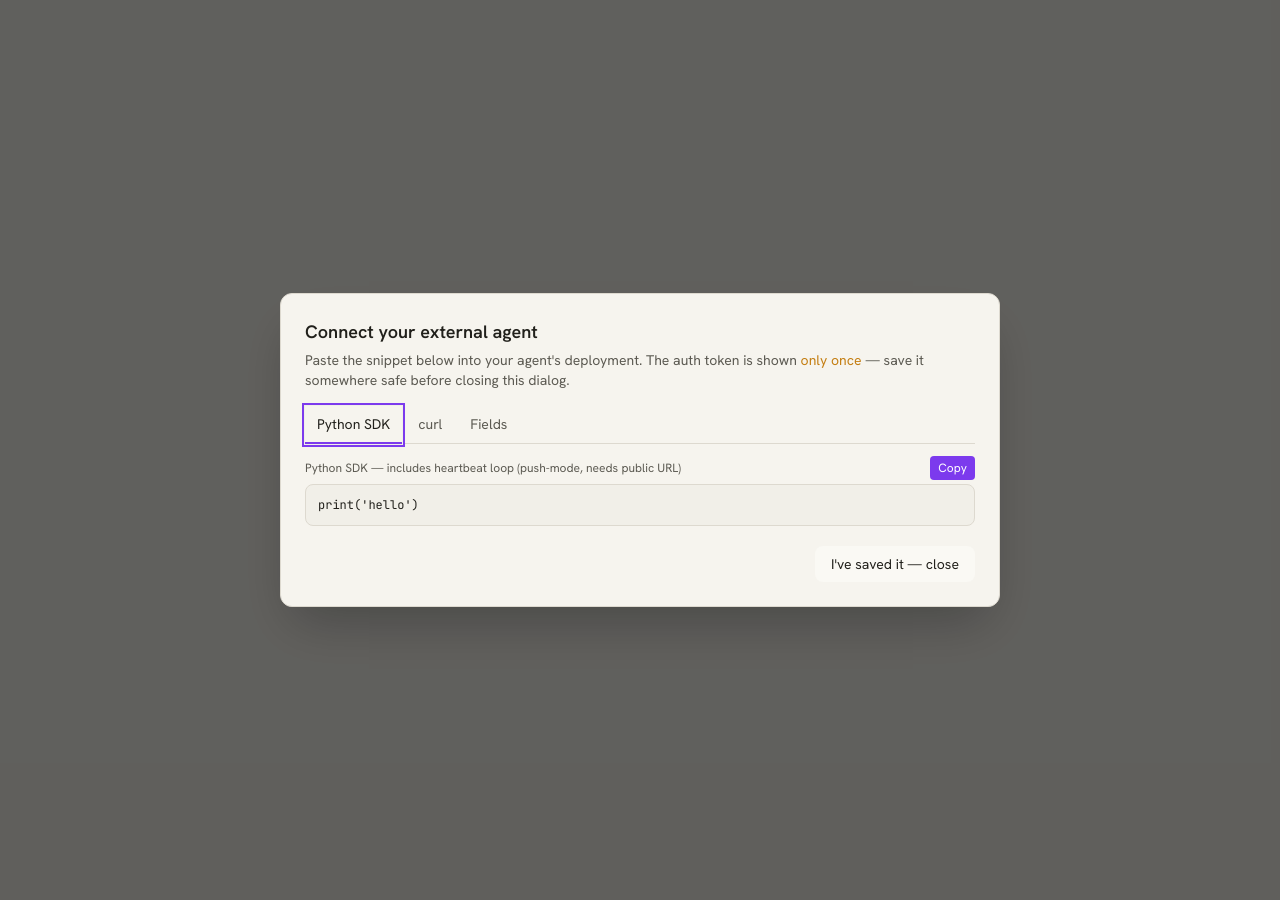
Test: ExternalConnectModal — missing optional fields › shows (missing) for absent optional fields in the Fields tab
Click the tab "Fields" at {"x": 489, "y": 425}, box x1=458 y1=406 x2=520 y2=444
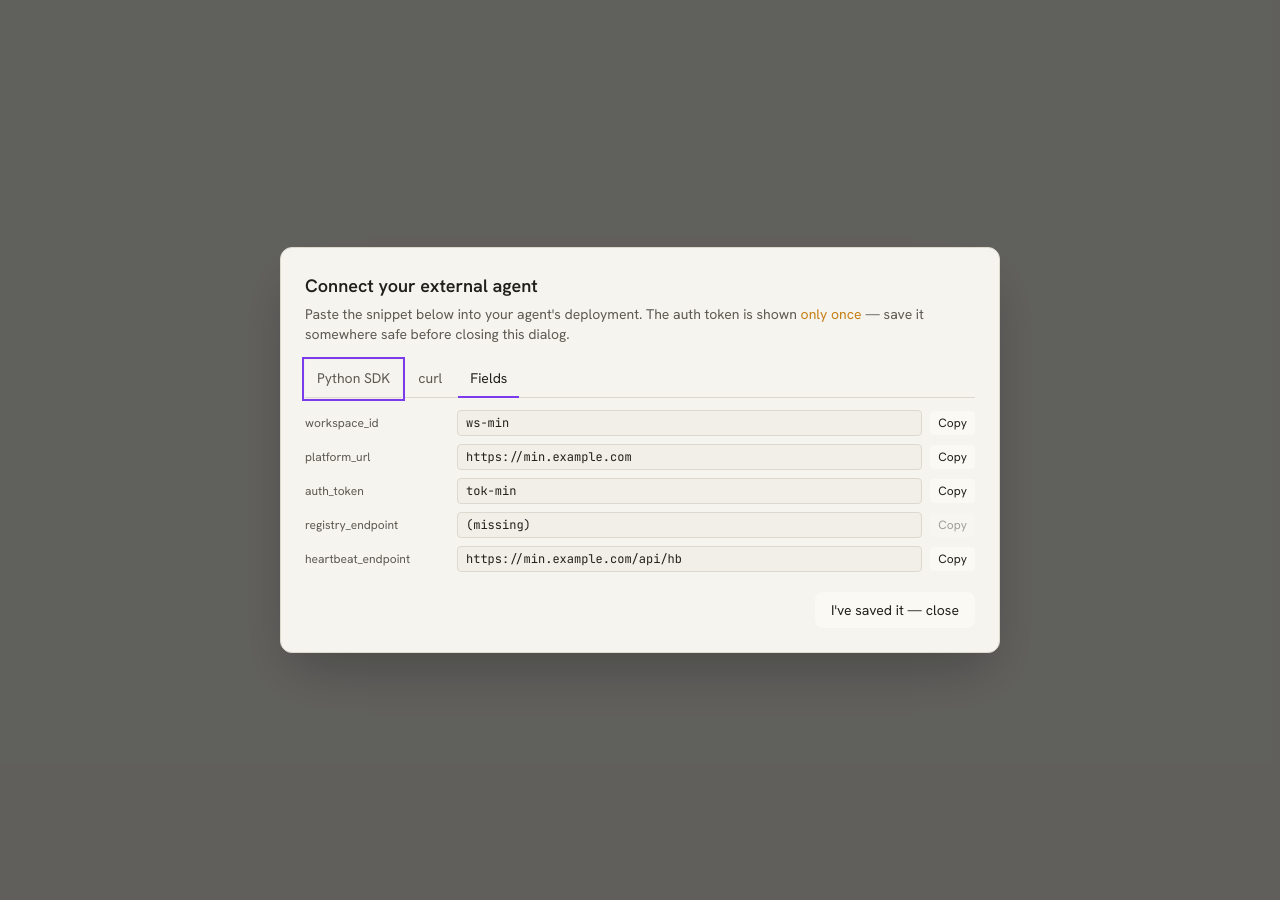
expect the panel with test id "panel-fields" shows "(missing)": met, box x1=466 y1=517 x2=531 y2=533
